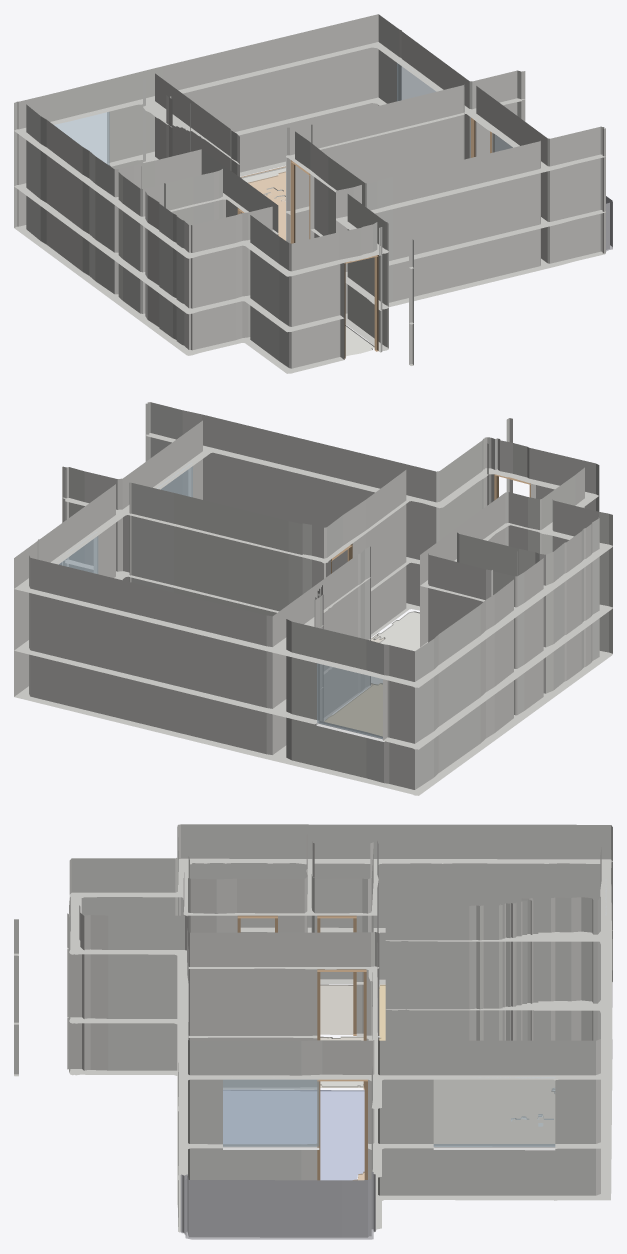
The picture shows the model from 3 angles, top to bottom: view 1: azimuth 30°, elevation 25°; view 2: azimuth 150°, elevation 25°; view 3: azimuth 270°, elevation 25°; orthographic projection. The views are drawn at different scales.
Parts seen in each view (by area): view 1: walls, window_5, floor_3_Living_Room, window_6, door_4, door_1, floor_11_Undefined; view 2: walls, window_5, floor_1_Kitchen, floor_11_Undefined, window_6, window_7; view 3: walls, railings, floor_4_Bed_Room, window_6, floor_3_Living_Room, window_7, floor_8_Storage, door_0, door_1, sill_6.
Boxes of the visible parts, bbox=[...] form: walls: bbox=[14, 14, 605, 373]; window_5: bbox=[54, 112, 109, 165]; floor_3_Living_Room: bbox=[240, 166, 285, 240]; window_6: bbox=[397, 63, 435, 101]; door_4: bbox=[344, 255, 378, 358]; door_1: bbox=[290, 160, 310, 243]; floor_11_Undefined: bbox=[345, 325, 374, 356]; walls: bbox=[14, 402, 612, 795]; window_5: bbox=[317, 663, 382, 738]; floor_1_Kitchen: bbox=[324, 683, 382, 736]; floor_11_Undefined: bbox=[371, 611, 419, 684]; window_6: bbox=[54, 532, 98, 573]; window_7: bbox=[156, 463, 192, 497]; walls: bbox=[14, 824, 612, 1232]; railings: bbox=[180, 1172, 375, 1239]; floor_4_Bed_Room: bbox=[223, 1090, 364, 1180]; window_6: bbox=[433, 1077, 555, 1146]; floor_3_Living_Room: bbox=[434, 1080, 554, 1143]; window_7: bbox=[223, 1079, 319, 1146]; floor_8_Storage: bbox=[320, 984, 353, 1034]; door_0: bbox=[317, 1079, 367, 1180]; door_1: bbox=[317, 969, 366, 1089]; sill_6: bbox=[433, 1145, 555, 1150].
Bounding box in the file's own units: 9.73 × 2.72 × 9.46.
